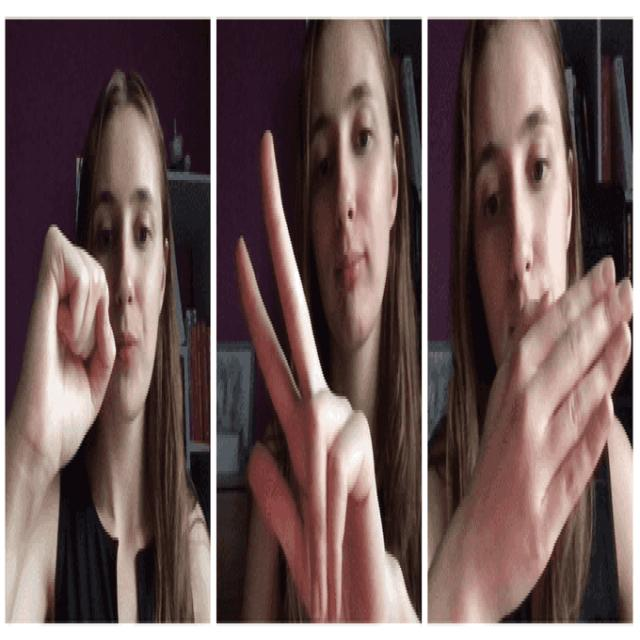paper: (492, 264, 636, 584)
rock: (32, 226, 116, 461)
scissors: (234, 131, 318, 530)
